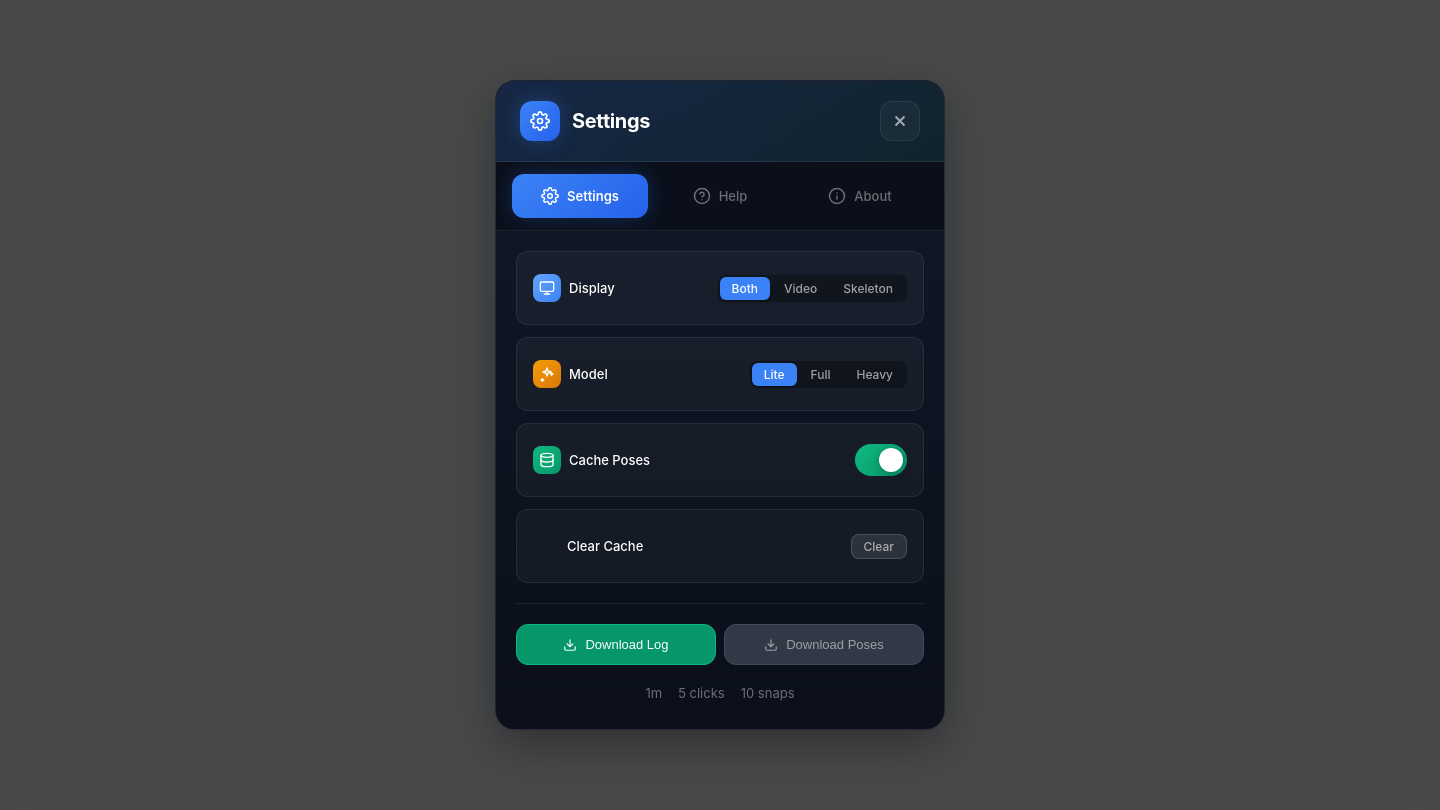
it: SettingsModal › Tab Navigation › switches to About tab when clicked
Click the button "About": click(860, 196) [792,174,928,218]
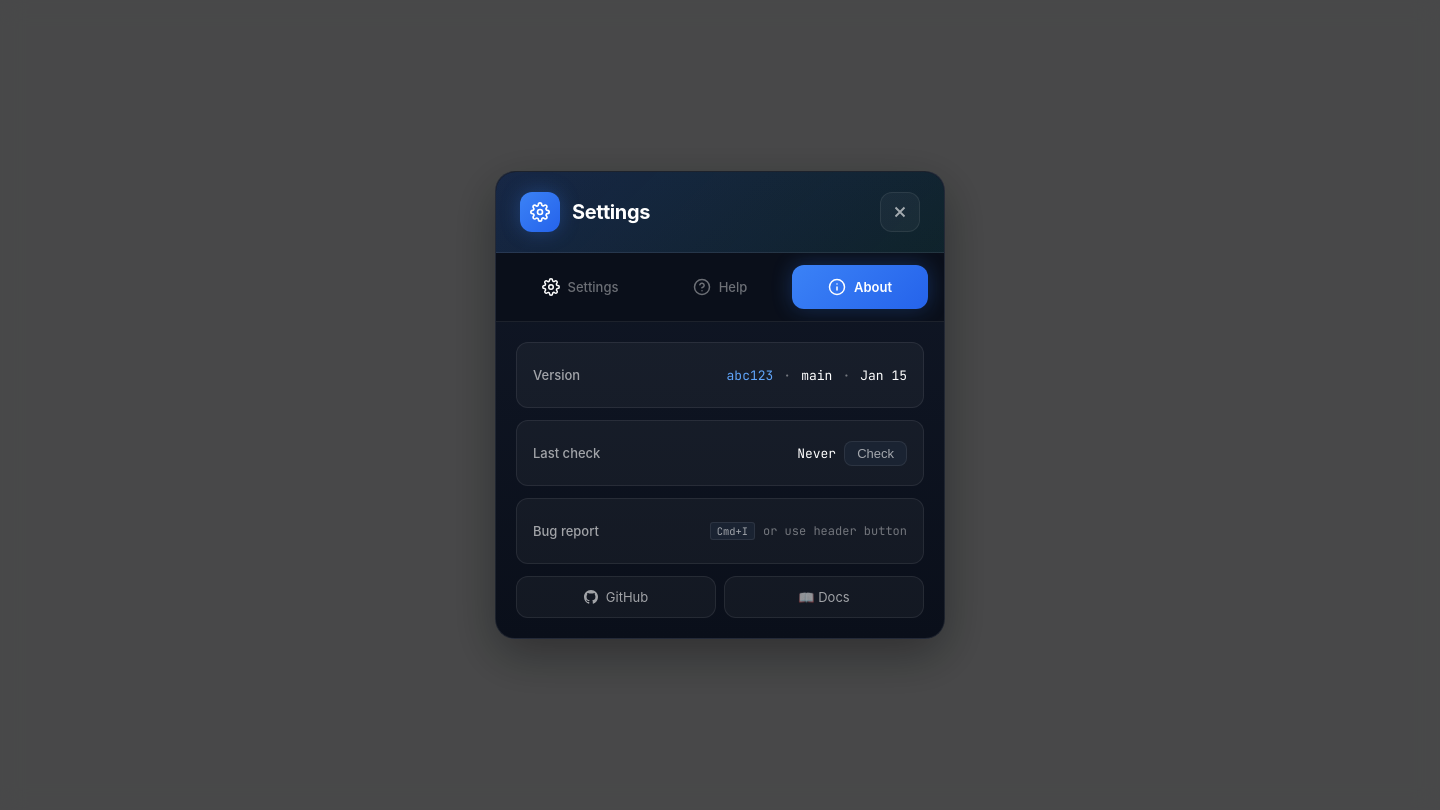
Now the text "Version" is shown, box [533,367,580,383]
